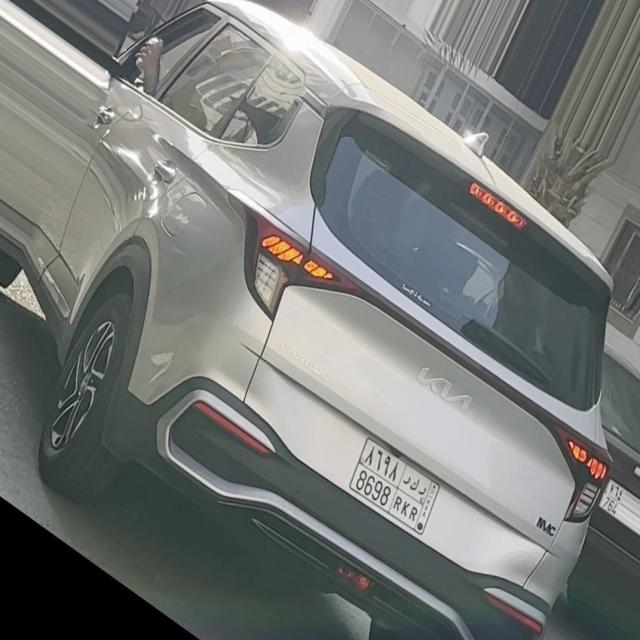Car-plate: (337, 426, 457, 547)
